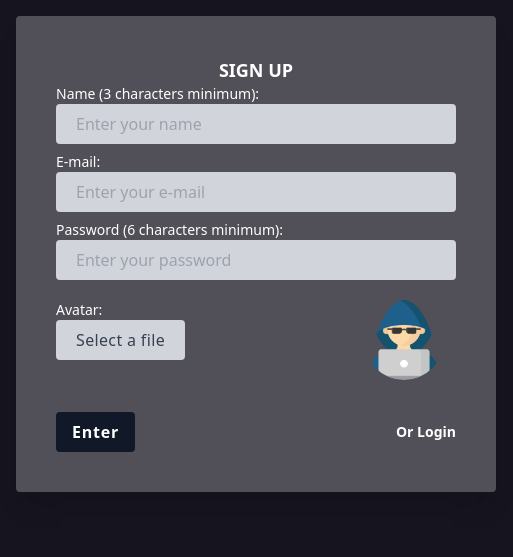
Test: LoginForm › should show error messages in english
The image size is (513, 557).
Expected: the text "Sign Up" is shown, x1=219 y1=58 x2=293 y2=82
Click the button "Enter" at coordinates (96, 432), box x1=56 y1=412 x2=135 y2=452
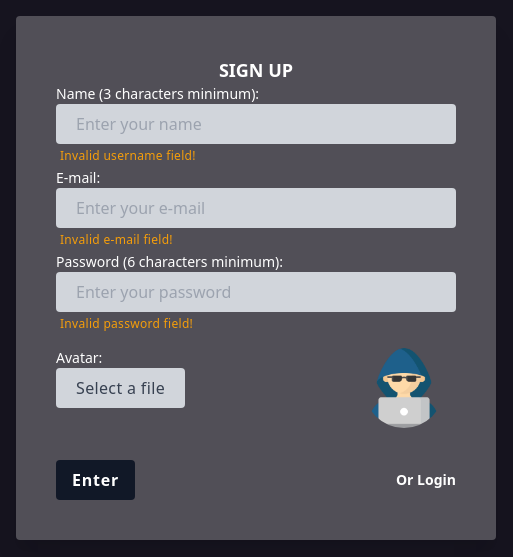
Expected: the text "Invalid password field!" is shown, x1=60 y1=315 x2=193 y2=332
